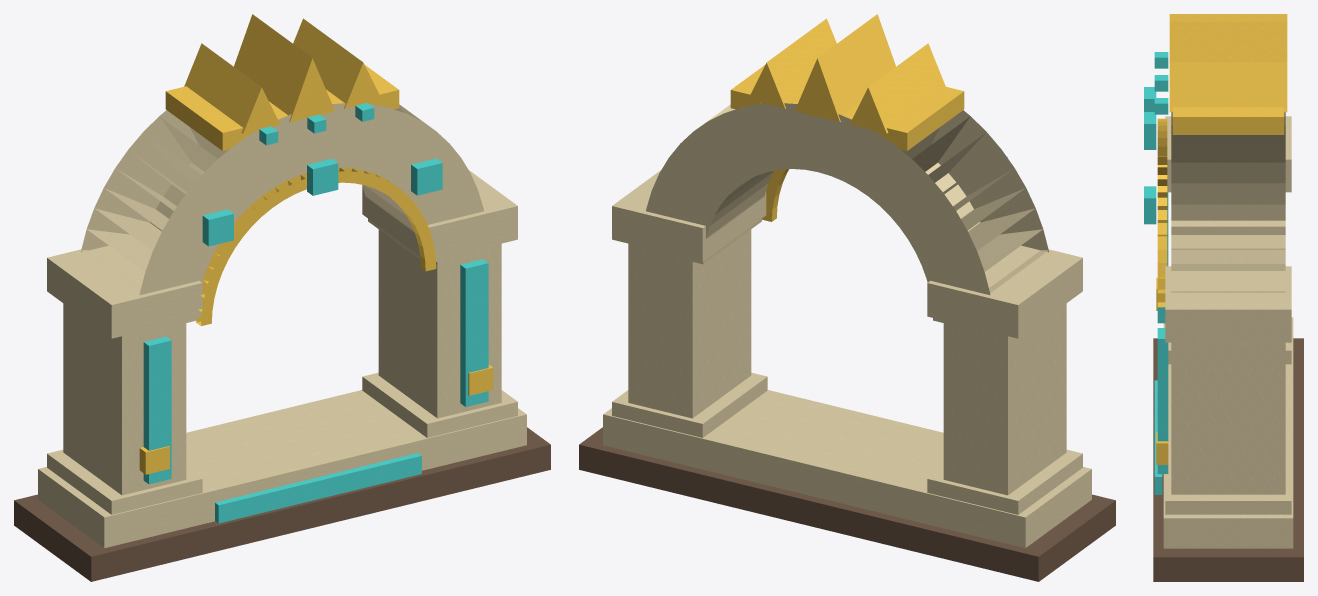
Rendered from crown_stage_gate.obj.
3 views of the same model, side by side, from view 1: azimuth 30°, elevation 25°; view 2: azimuth 150°, elevation 25°; view 3: azimuth 270°, elevation 25° (orthographic). The views are drawn at different scales.
Visible parts, largest first — view 1: crown_stage_gate_v2; view 2: crown_stage_gate_v2; view 3: crown_stage_gate_v2.
Part boxes in pixels (x1=…): crown_stage_gate_v2: x1=14, y1=14, x2=550, y2=581; crown_stage_gate_v2: x1=579, y1=14, x2=1115, y2=581; crown_stage_gate_v2: x1=1144, y1=14, x2=1303, y2=581.
Bounding box in the file's own units: 3.44 × 3.3 × 1.06.
Materials: 4 (4 with a texture image).
